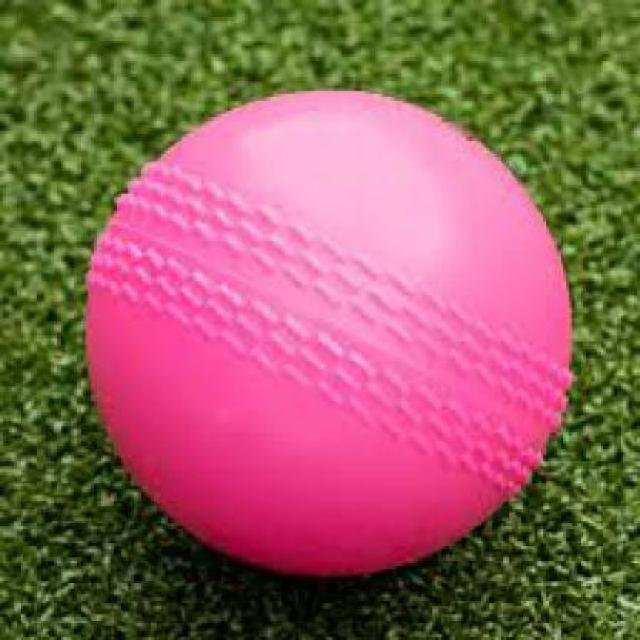ball: (71, 70, 600, 580)
